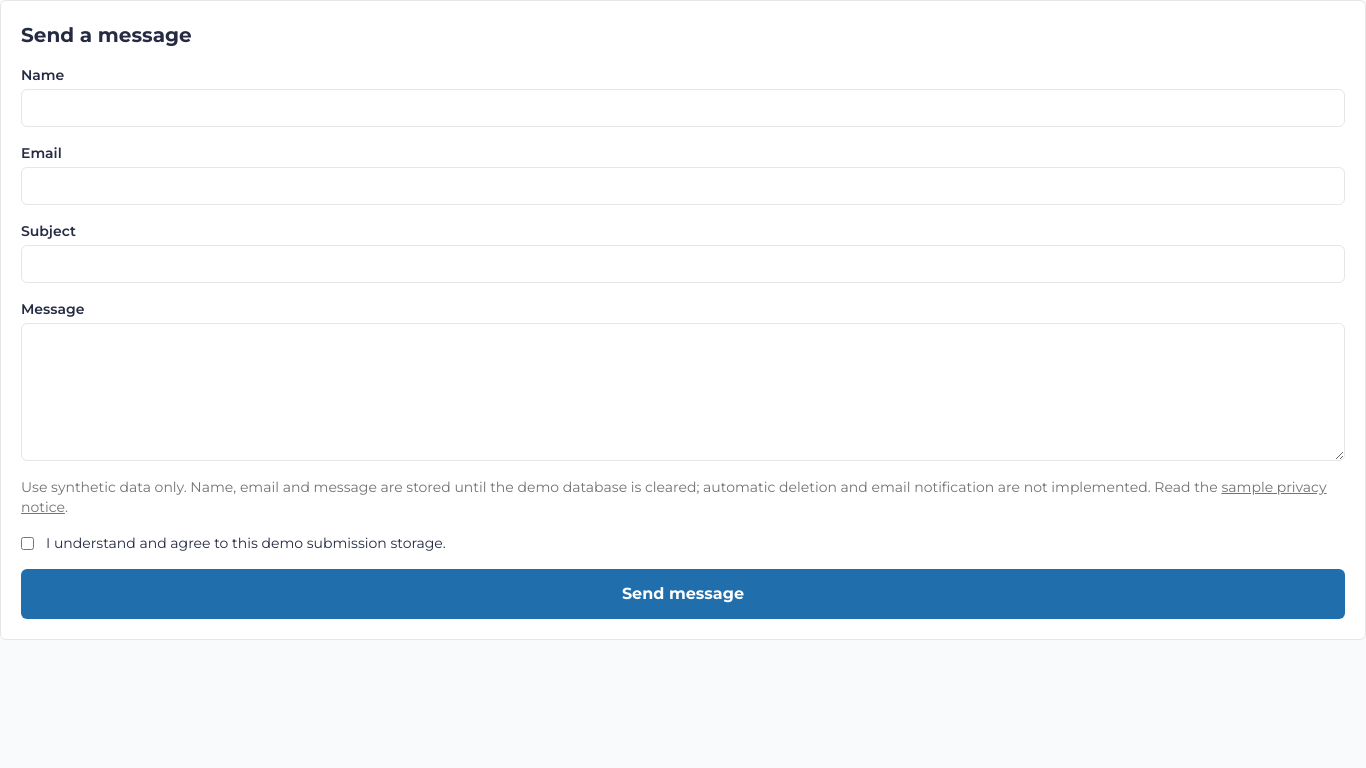
Test case: retains contact inputs on failure and reuses submission identity on retry
This screenshot has width=1366, height=768.
Type "Synthetic" into the field labelled "Name" at (683, 108), box x1=21 y1=89 x2=1345 y2=127
Type "sender@example.test" into the field labelled "Email" at (683, 186), box x1=21 y1=167 x2=1345 y2=205
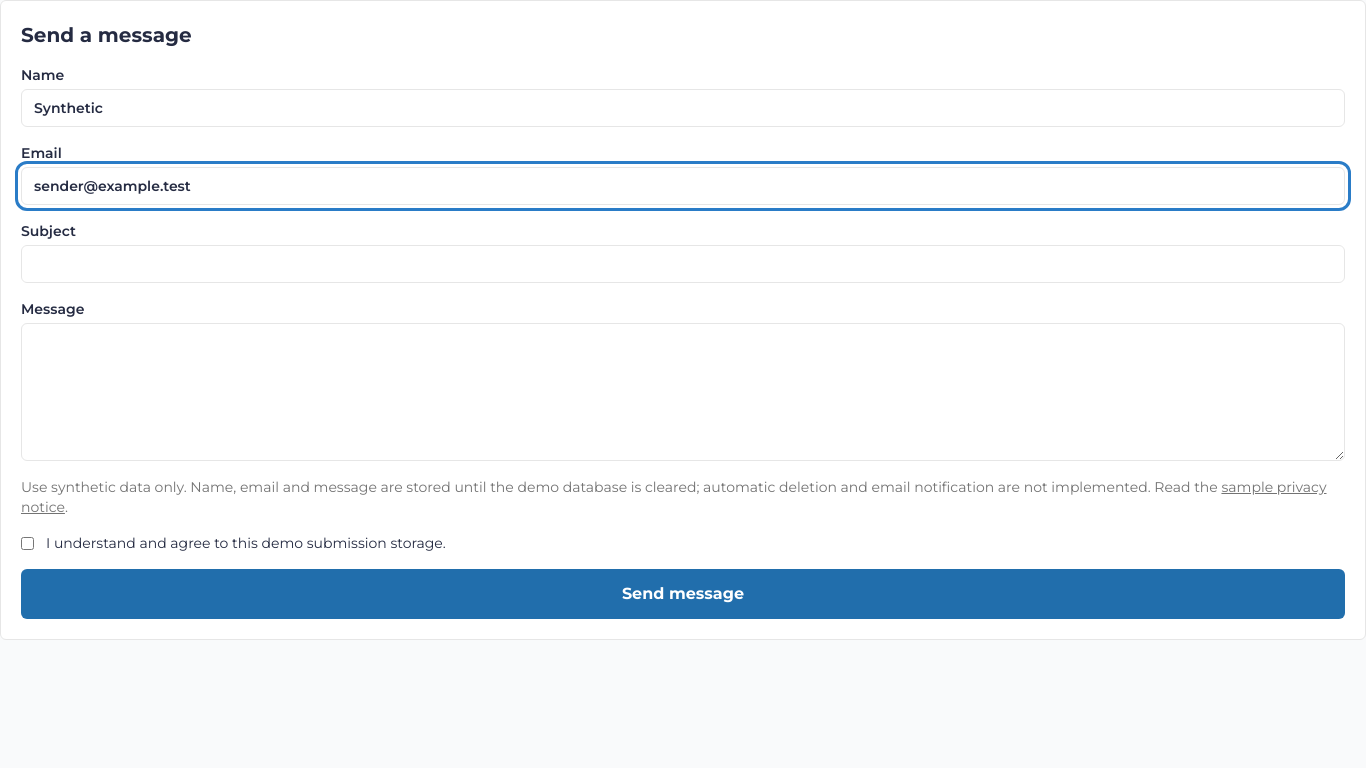
Type "Test" into the field labelled "Subject" at (683, 264), box x1=21 y1=245 x2=1345 y2=283
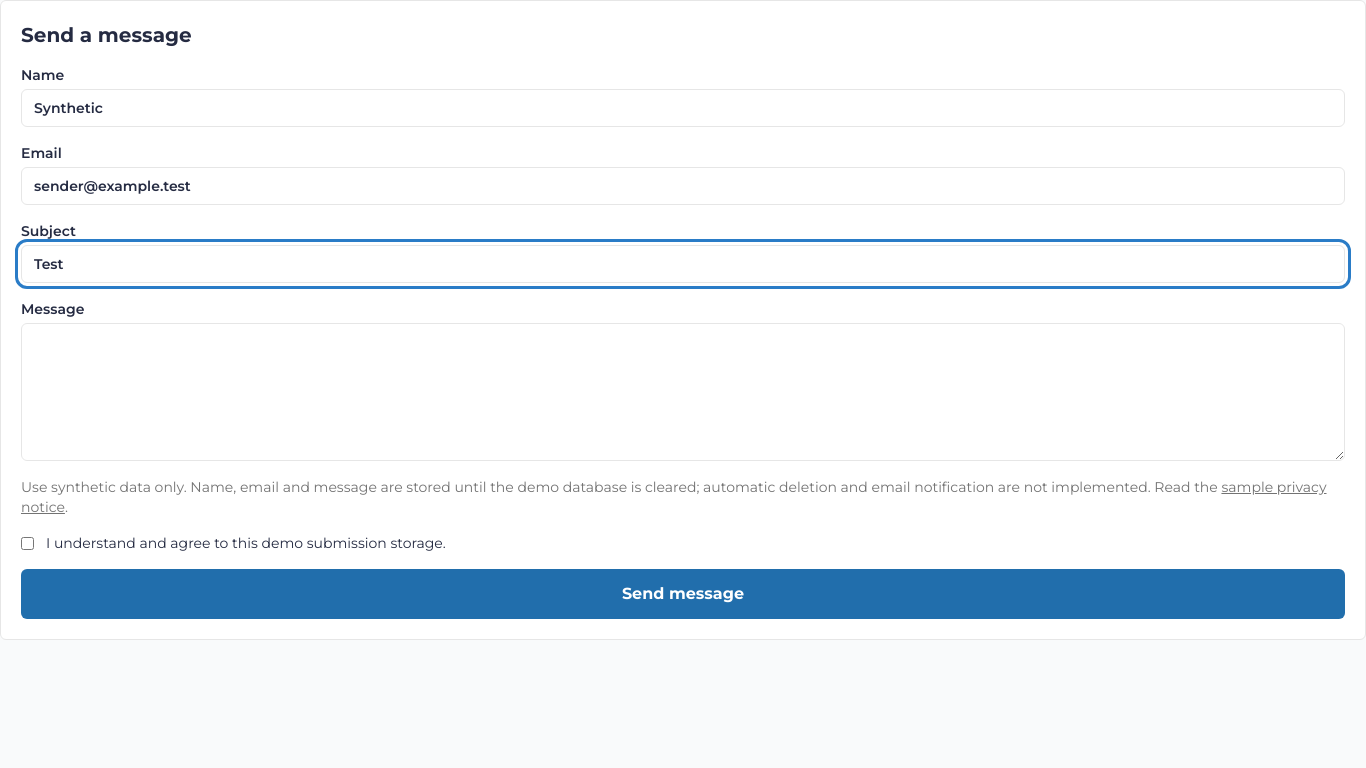
Type "A synthetic test inquiry." into the text box labelled "Message" at (683, 392), box x1=21 y1=323 x2=1345 y2=461
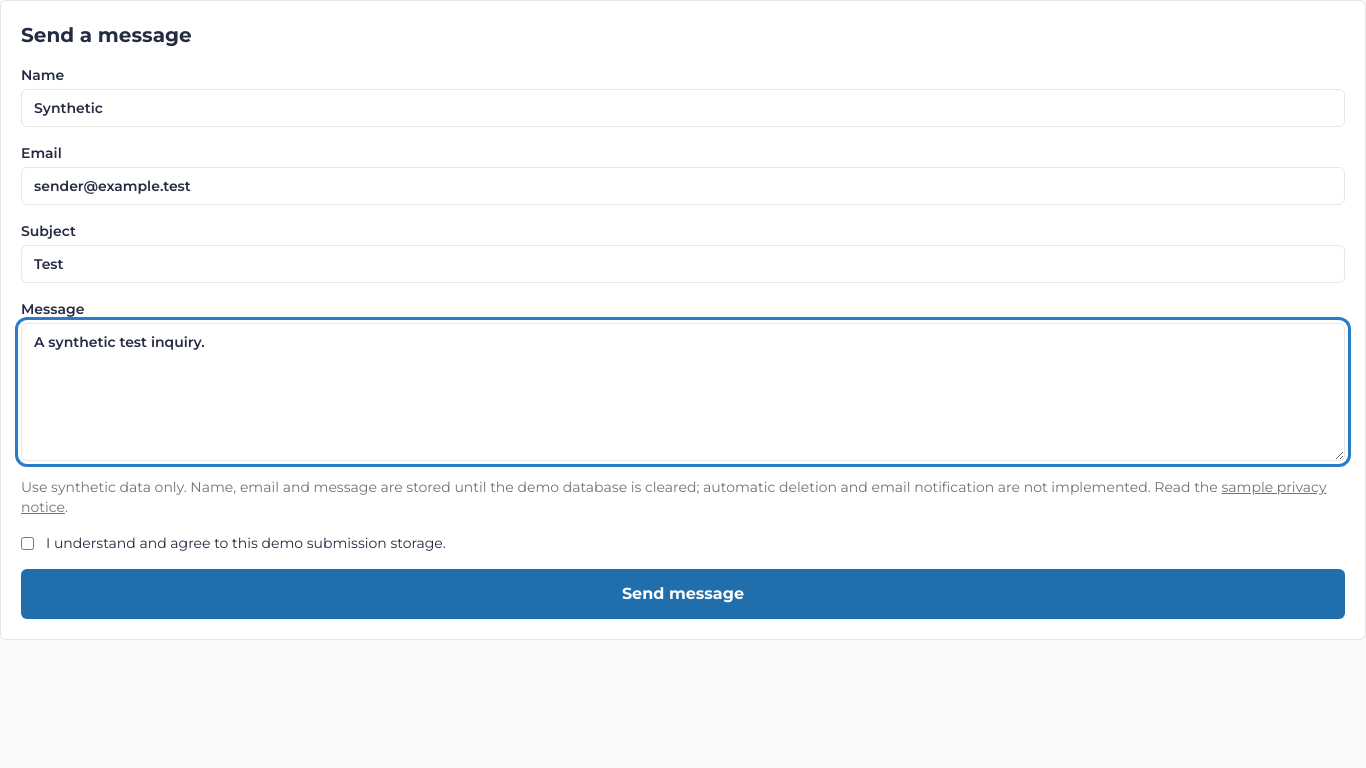
Click the checkbox at (28, 544), box x1=21 y1=537 x2=34 y2=550
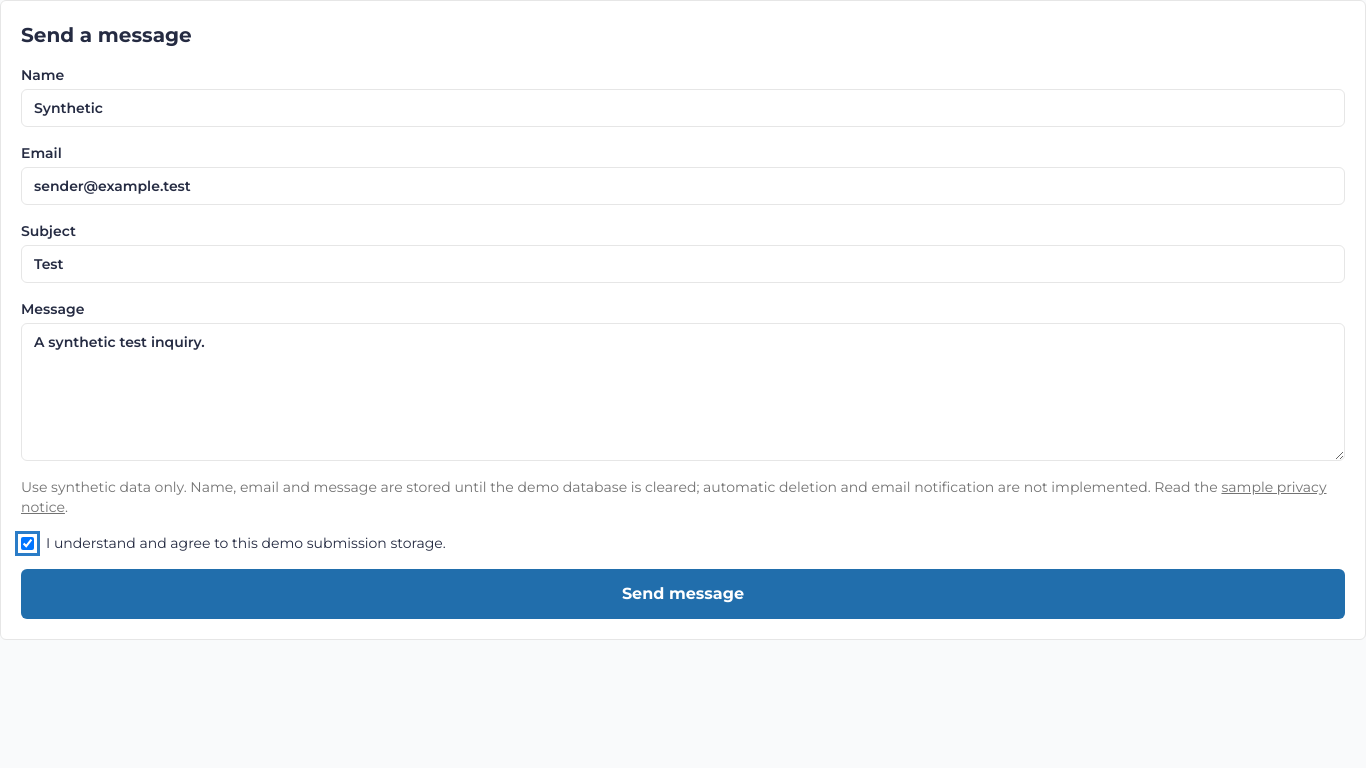
Click the button "Send message" at (683, 594), box x1=21 y1=569 x2=1345 y2=619
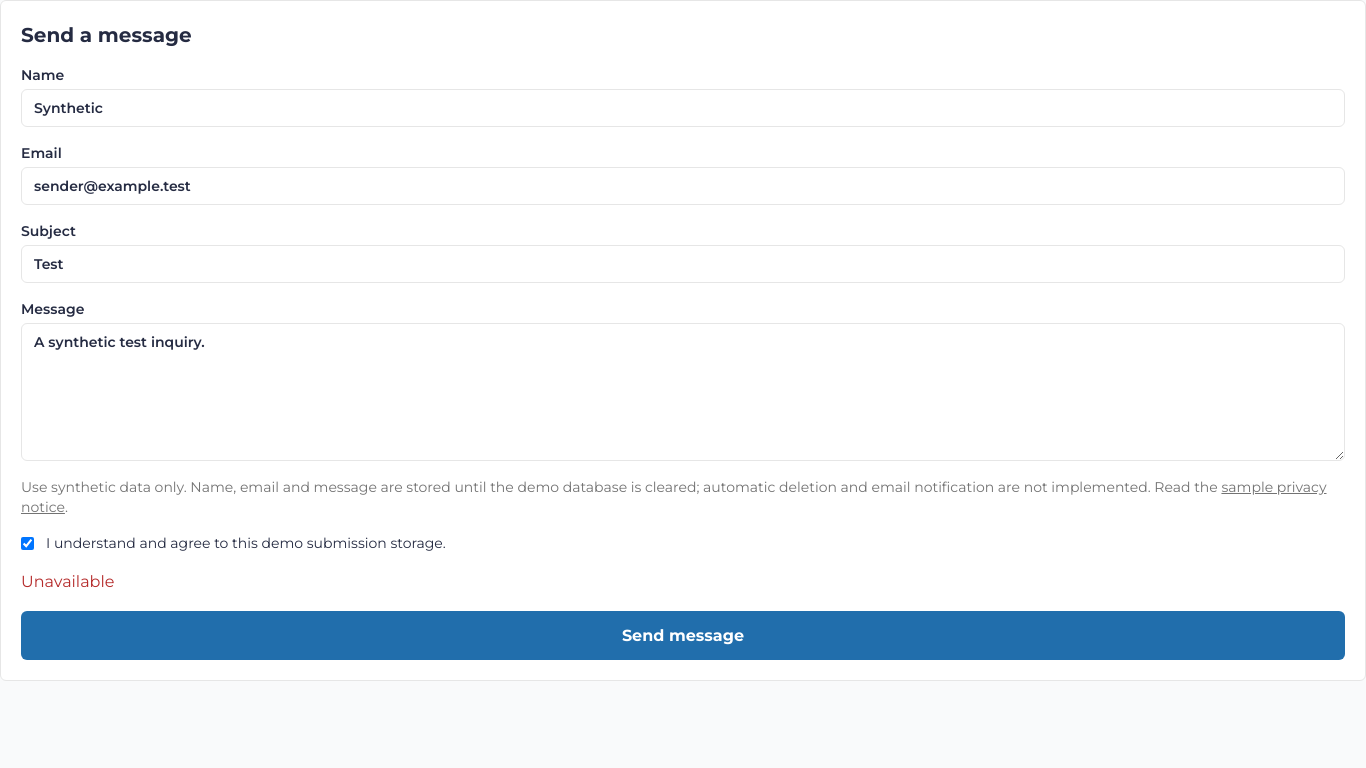
Check: the text "Unavailable" is shown, box x1=21 y1=572 x2=114 y2=591
Click the button "Send message" at (683, 635), box x1=21 y1=611 x2=1345 y2=660
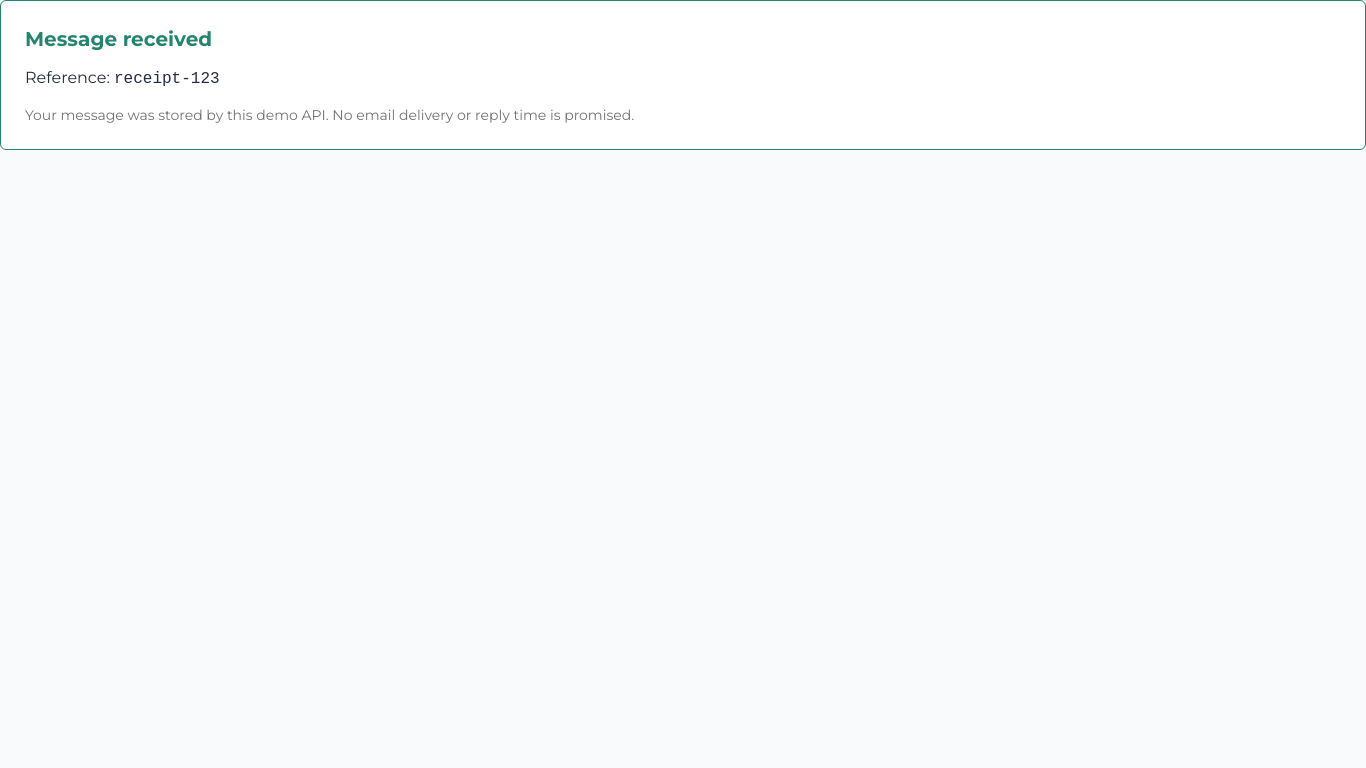
Check: the heading "Message received" is shown, box x1=25 y1=27 x2=212 y2=51
